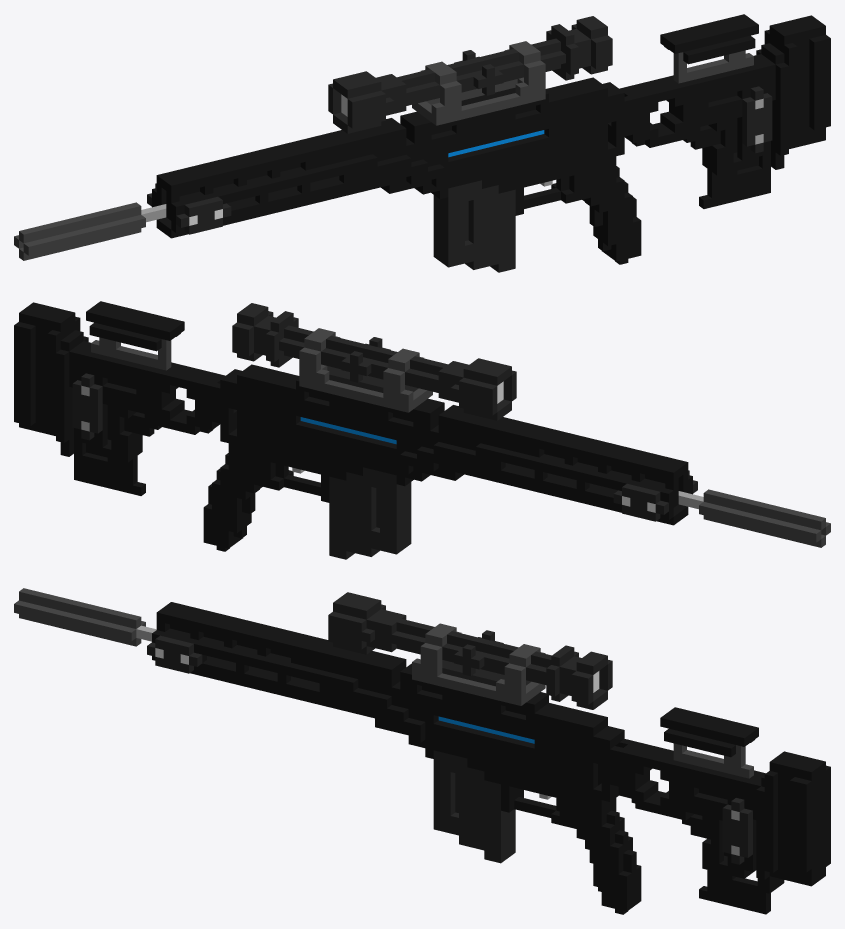
The model's file is rifle.glb.
3 views of the same model, one above another, from view 1: azimuth 30°, elevation 25°; view 2: azimuth 150°, elevation 25°; view 3: azimuth 330°, elevation 25° (orthographic).
Visible parts, largest first — view 1: Object_2; view 2: Object_2; view 3: Object_2.
Part boxes in pixels (x1,y1,x2,y2): Object_2: (14, 14, 830, 272); Object_2: (14, 301, 830, 559); Object_2: (14, 588, 830, 914).
Bounding box in the file's own units: 95 × 28 × 7.
Materials: 1 (1 with a texture image).
